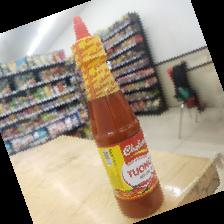Tuong: (69, 12, 167, 221)
